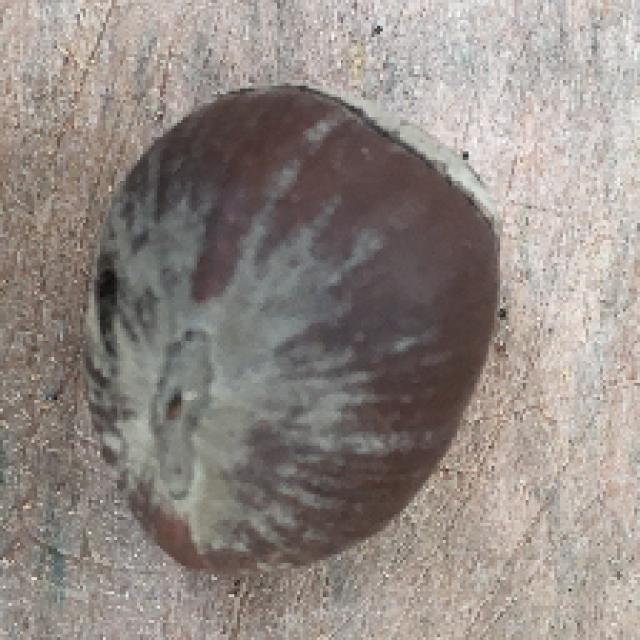DamagedHazelnut: (82, 84, 511, 573)
